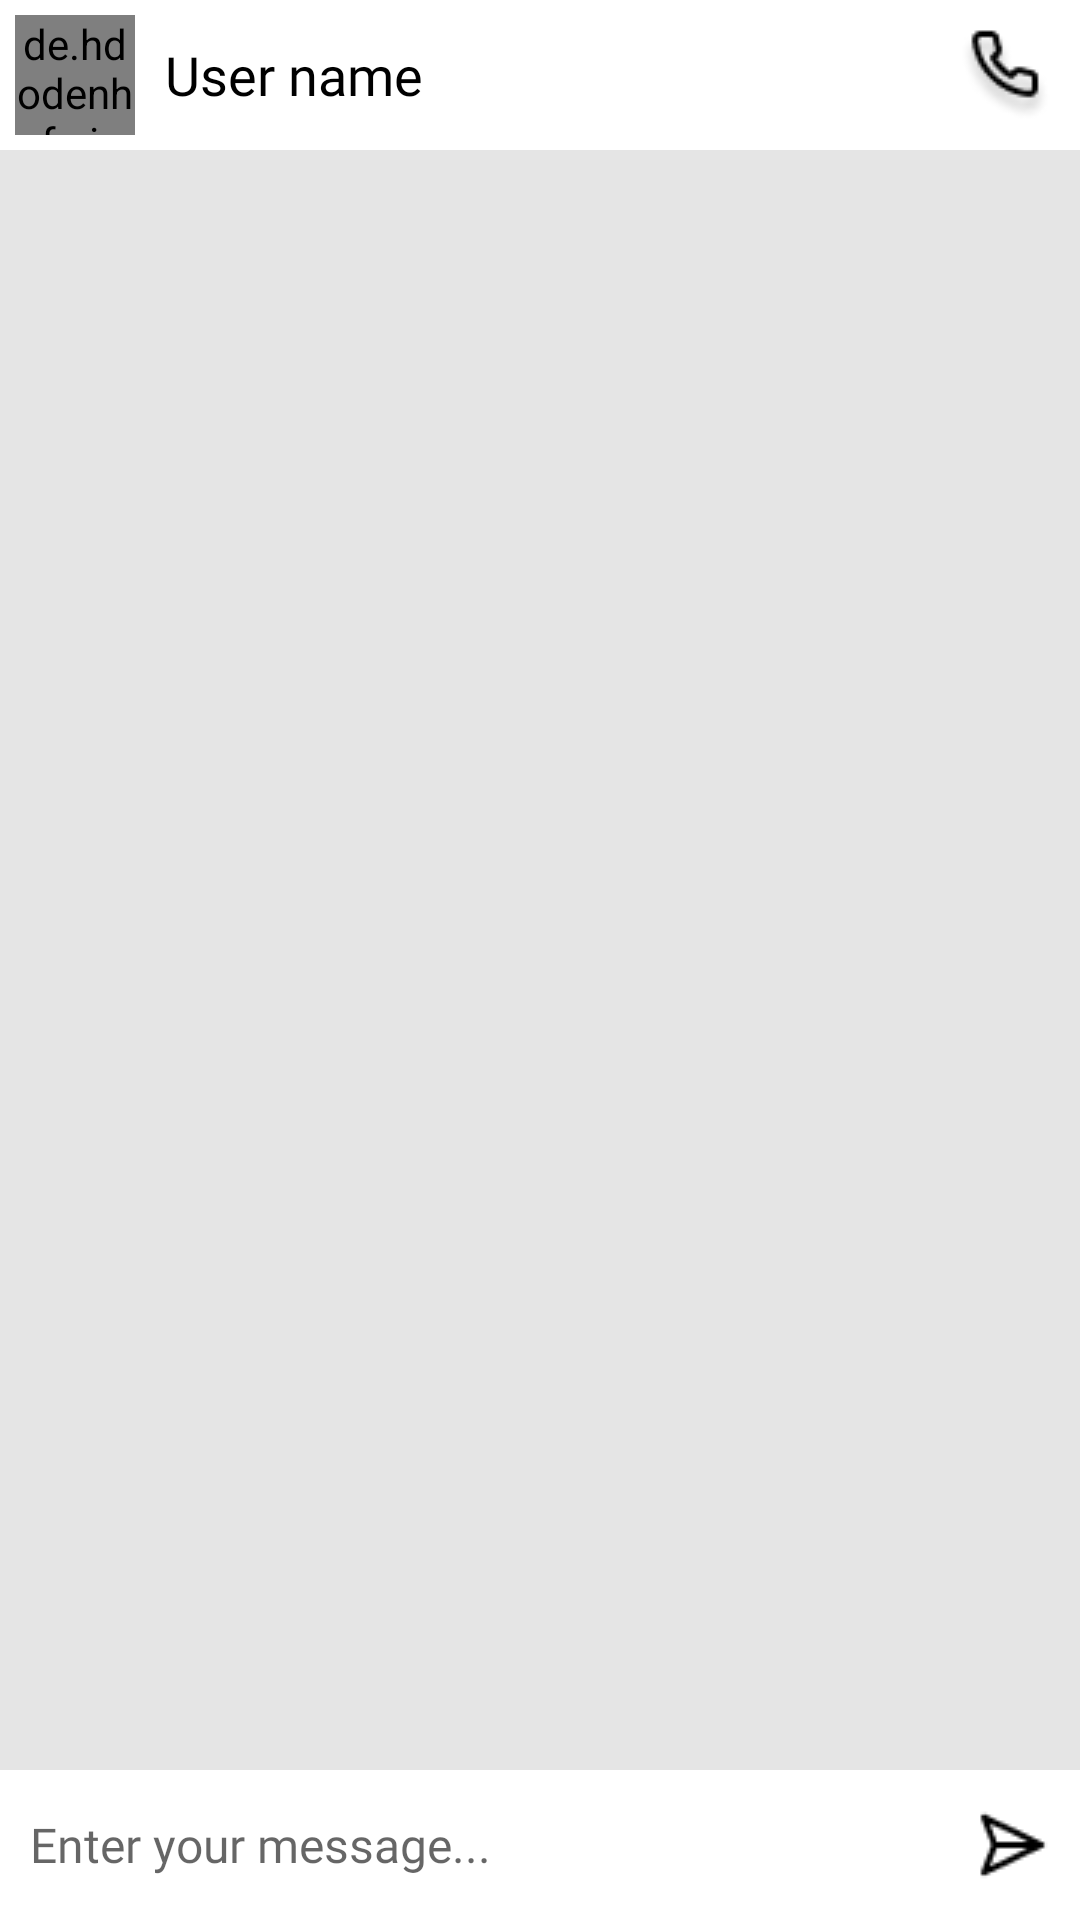

Named icons in this screenshot (1080×1920) and their bounding boxes, (x1, y1, x2, y2):
phone call: (971, 30, 1039, 108)
send: (980, 1813, 1045, 1876)
